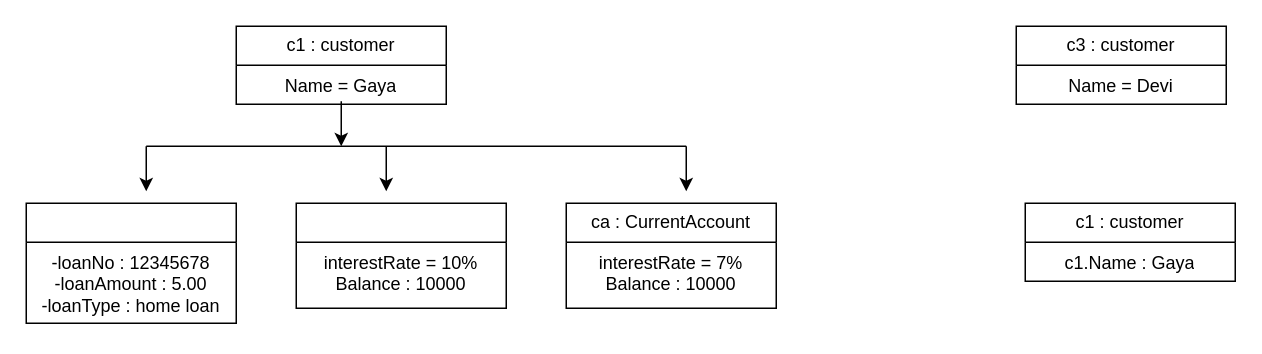
This 1262x354 diagram has some shape labels left out. The box of each missing label's shape, as (x1, y1, x2, y2) in pixels:
l1 : loan: (25, 202, 236, 323)
s1 : SavingsAccount: (295, 202, 506, 308)
